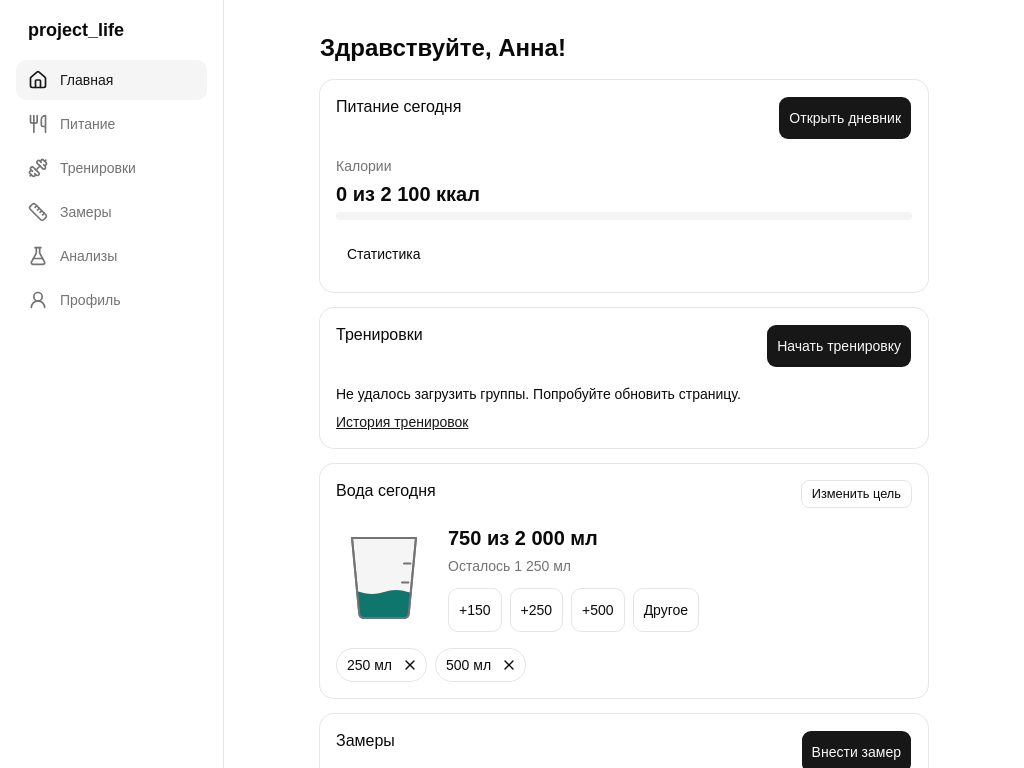
Test: вода на главной › убирает порцию крестиком на её метке
Step 1. Click the button named "Убрать 500 мл" → (509, 665), box [493,649,525,681]
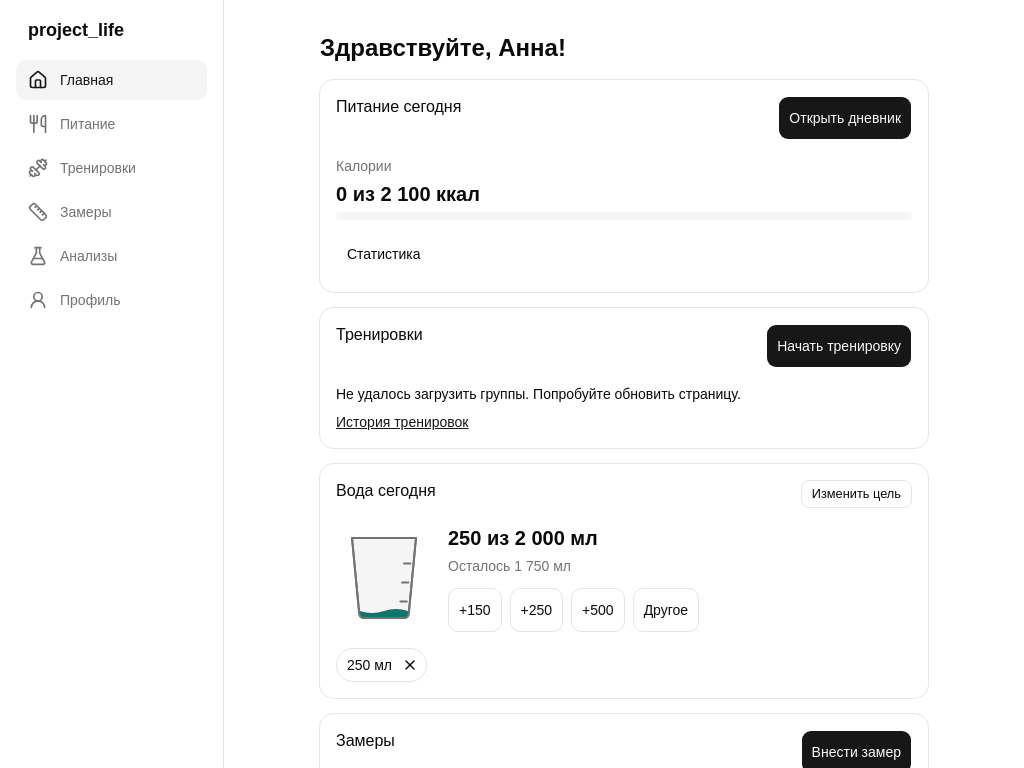
Expected: the text "250 из 2 000 мл" is shown, [448,527,598,549]
